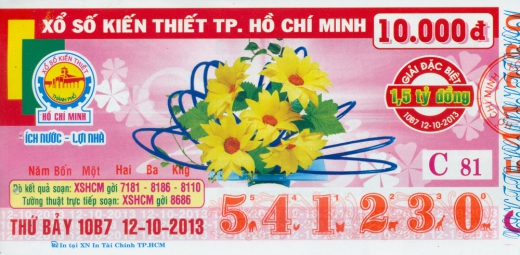serial_zone: (212, 188, 500, 240)
